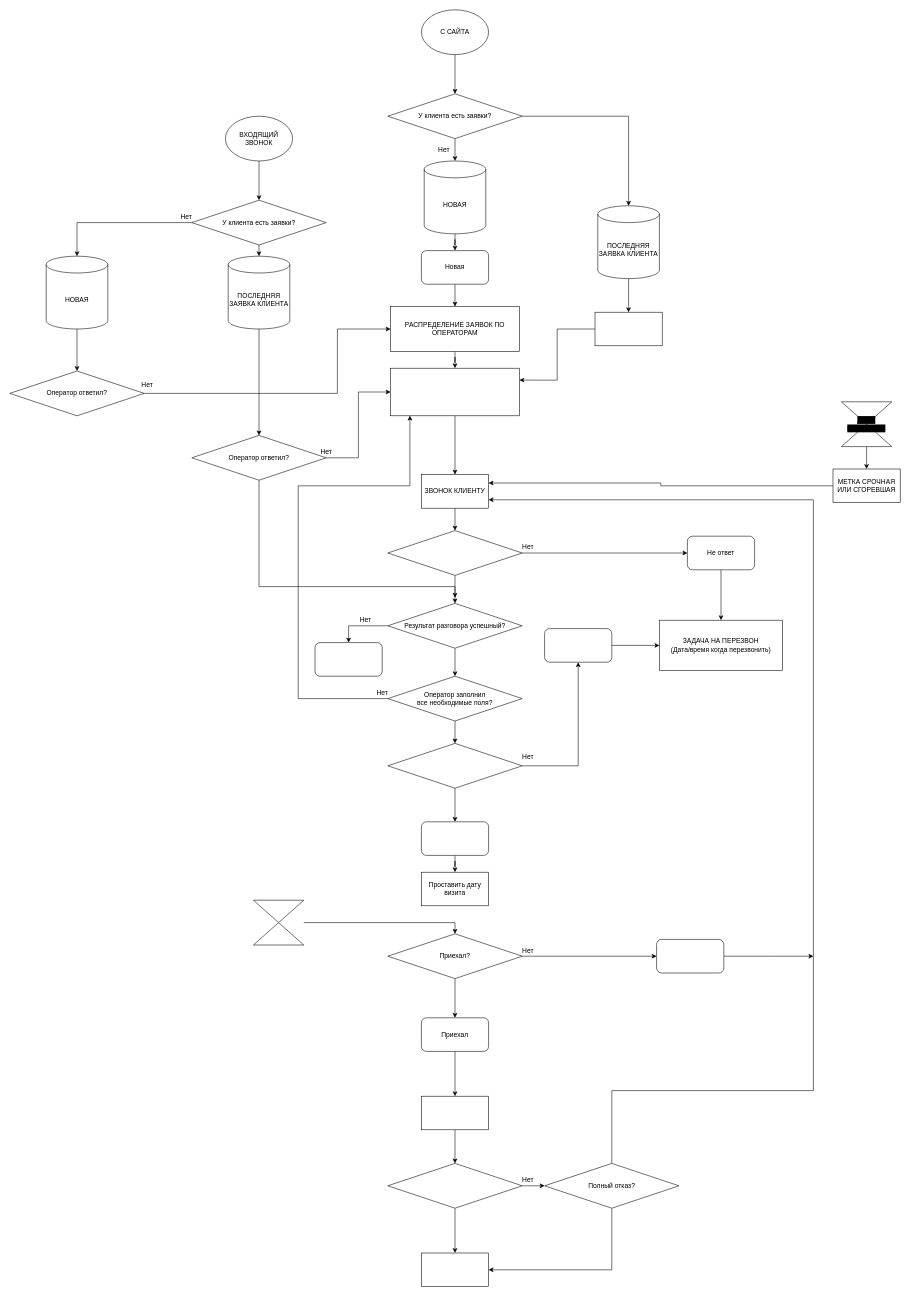
Some shapes in this 910 by 1296 pixel diagram are drawn without their labels. Each missing label, with the centre of its shape:
В работе: the point at 578,645
ДЕНЬ ВИЗИТА: the point at 278,922
Завершено: the point at 455,1269
Клиент ответил?: the point at 454,552
Корзина: the point at 348,659
Купил?: the point at 454,1185
МЕТКА АКТУАЛЬНАЯ: the point at 454,392
Не приехал: the point at 690,956
ПОВТОР С СОХРАЕНИЕМ ДАННЫХ ЛИДА: the point at 628,329
Приедет: the point at 455,838
Приедет?: the point at 454,765
Работа "в поле": the point at 455,1113
